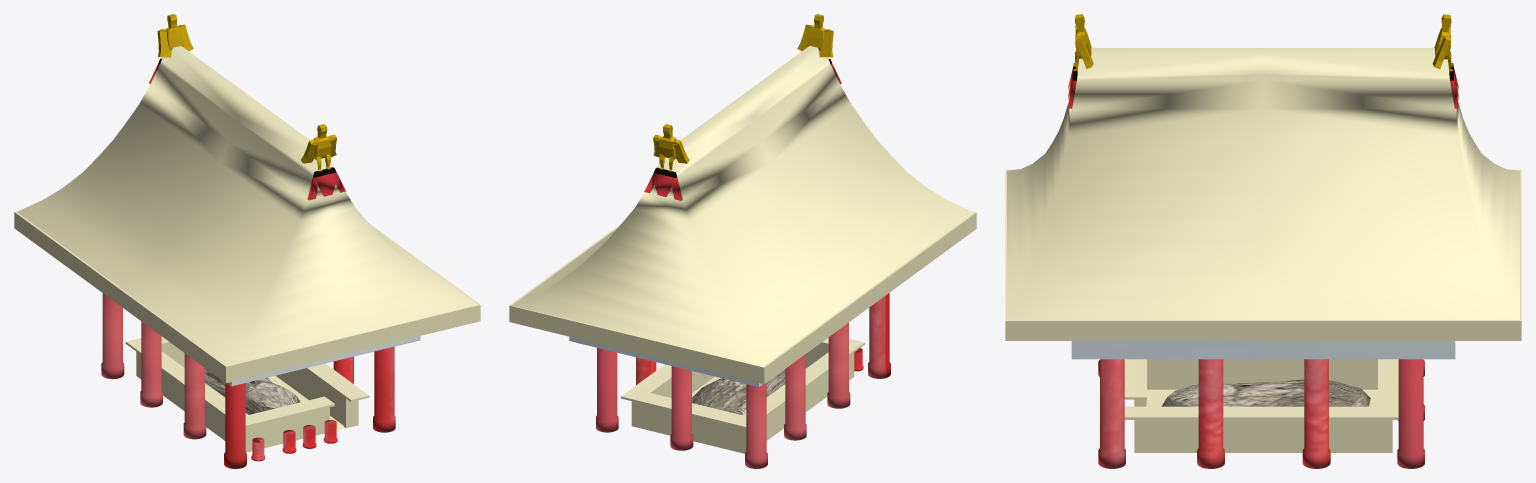
Rendered from Watu.fbx.
3 renders of one model, left to right at view 1: azimuth 30°, elevation 25°; view 2: azimuth 150°, elevation 25°; view 3: azimuth 270°, elevation 25°, orthographic. The views are drawn at different scales.
Visible parts, largest first — view 1: Cube.004, Cube.001, Cube.002, Cylinder, Cylinder.001, Cube.003, Cylinder.009, Cube, Cube.005, Cube.006; view 2: Cube.004, Cylinder, Cube.001, Cube.002, Cube.003, Cube, Cube.006, Cube.005; view 3: Cube.004, Cube.002, Cube.001, Cube, Cube.003, Cylinder, Cylinder.002, Cylinder.005, Cylinder.001, Cube.005, Cube.006.
Part boxes in pixels (x1,y1,x2,y2): Cube.004: (17,46,477,365); Cube.001: (14,211,480,383); Cube.002: (125,336,369,452); Cylinder: (101,293,246,468); Cylinder.001: (373,346,395,432); Cube.003: (205,368,300,414); Cylinder.009: (251,420,337,461); Cube: (227,336,420,386); Cube.005: (301,124,336,171); Cube.006: (157,14,193,57); Cube.004: (512,46,973,366); Cylinder: (596,293,890,468); Cube.001: (509,211,976,384); Cube.002: (621,337,864,453); Cube.003: (692,369,785,415); Cube: (569,336,762,387); Cube.006: (653,124,689,171); Cube.005: (797,14,833,57); Cube.004: (1007,48,1519,319); Cube.002: (1124,359,1398,452); Cube.001: (1005,169,1521,340); Cube: (1071,341,1455,359); Cube.003: (1161,379,1370,406); Cylinder: (1098,359,1424,468); Cylinder.002: (1197,359,1224,468); Cylinder.005: (1302,359,1330,468); Cylinder.001: (1098,359,1125,468); Cube.005: (1073,14,1093,71); Cube.006: (1432,14,1452,71).
Size of the model in its own units: 1025 by 1271 by 1477.
